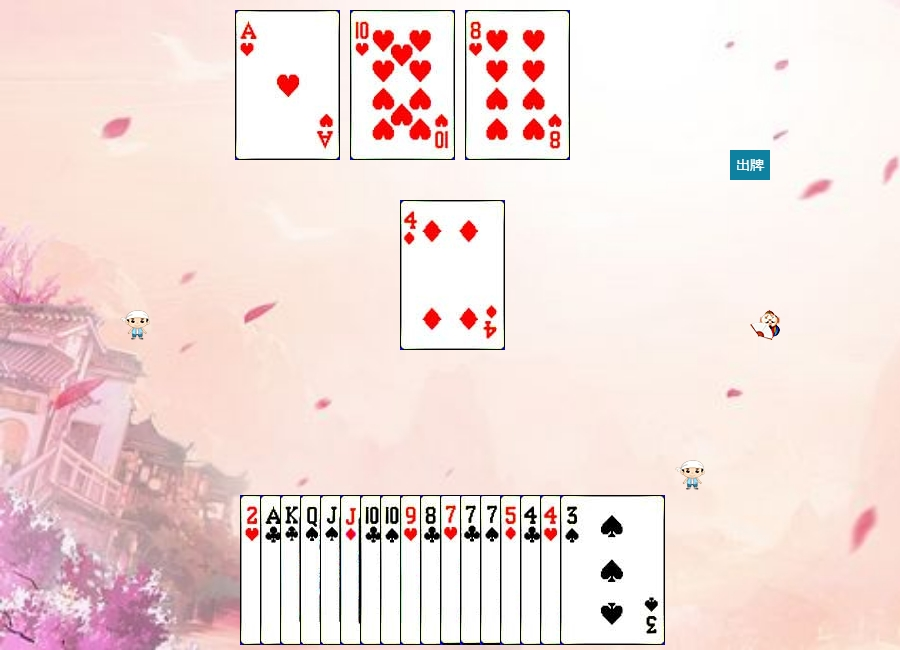10~2: (360, 495, 465, 645)
10~3: (350, 10, 455, 160)
10~4: (380, 495, 485, 645)
11~1: (340, 495, 445, 645)
11~4: (320, 495, 425, 645)
12~4: (300, 495, 405, 645)
13~2: (280, 495, 385, 645)
14~2: (260, 495, 365, 645)
14~3: (235, 10, 340, 160)
15~3: (240, 495, 345, 645)
3~4: (560, 495, 665, 645)
4~1: (400, 200, 505, 350)
4~2: (520, 495, 625, 645)
4~3: (540, 495, 645, 645)
5~1: (500, 495, 605, 645)
7~2: (460, 495, 565, 645)
7~3: (440, 495, 545, 645)
7~4: (480, 495, 585, 645)
8~2: (420, 495, 525, 645)
8~3: (465, 10, 570, 160)
9~3: (400, 495, 505, 645)
